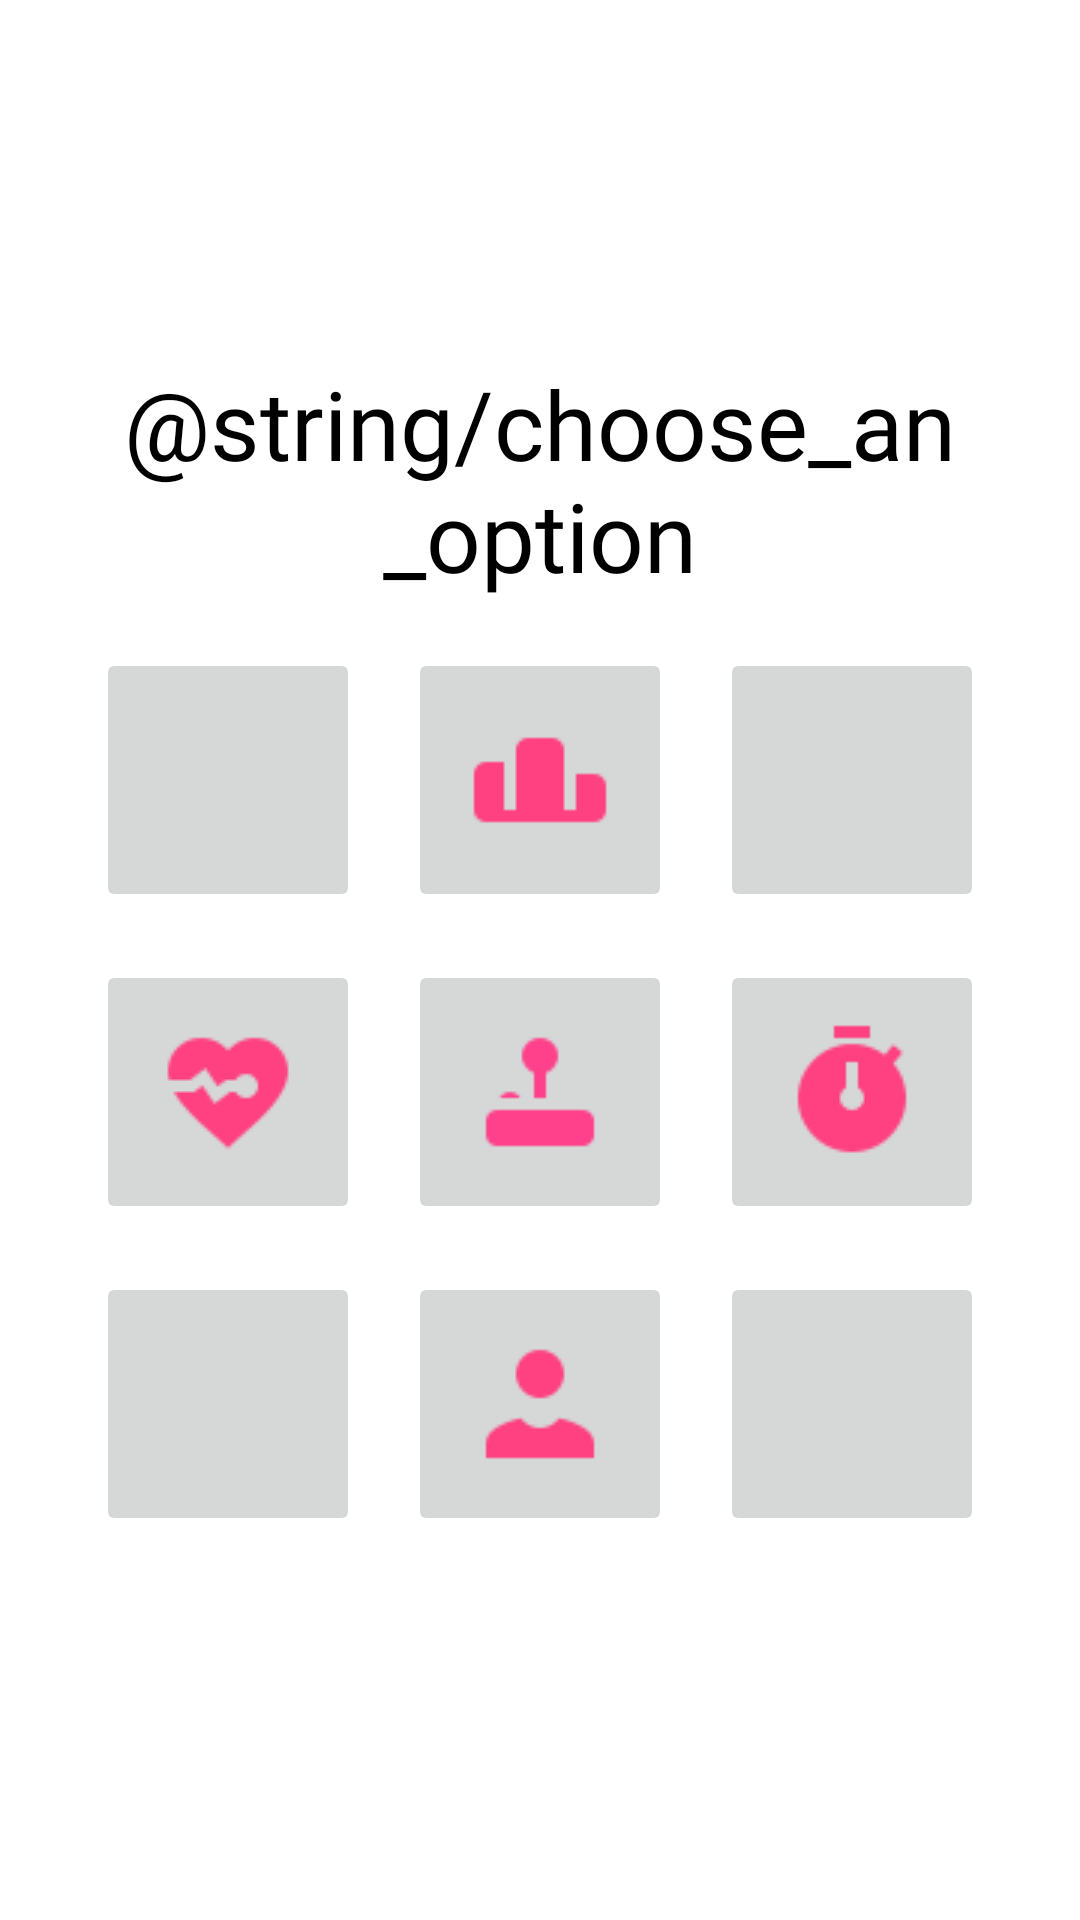

Named icons in this screenshot (1080 × 1920) and their bounding boxes, (x1, y1, x2, y2):
heart with pulse: (108, 978, 348, 1206)
joystick: (420, 978, 660, 1206)
leaderboard: (420, 666, 660, 894)
stopwatch: (732, 978, 972, 1206)
user: (420, 1290, 660, 1518)
